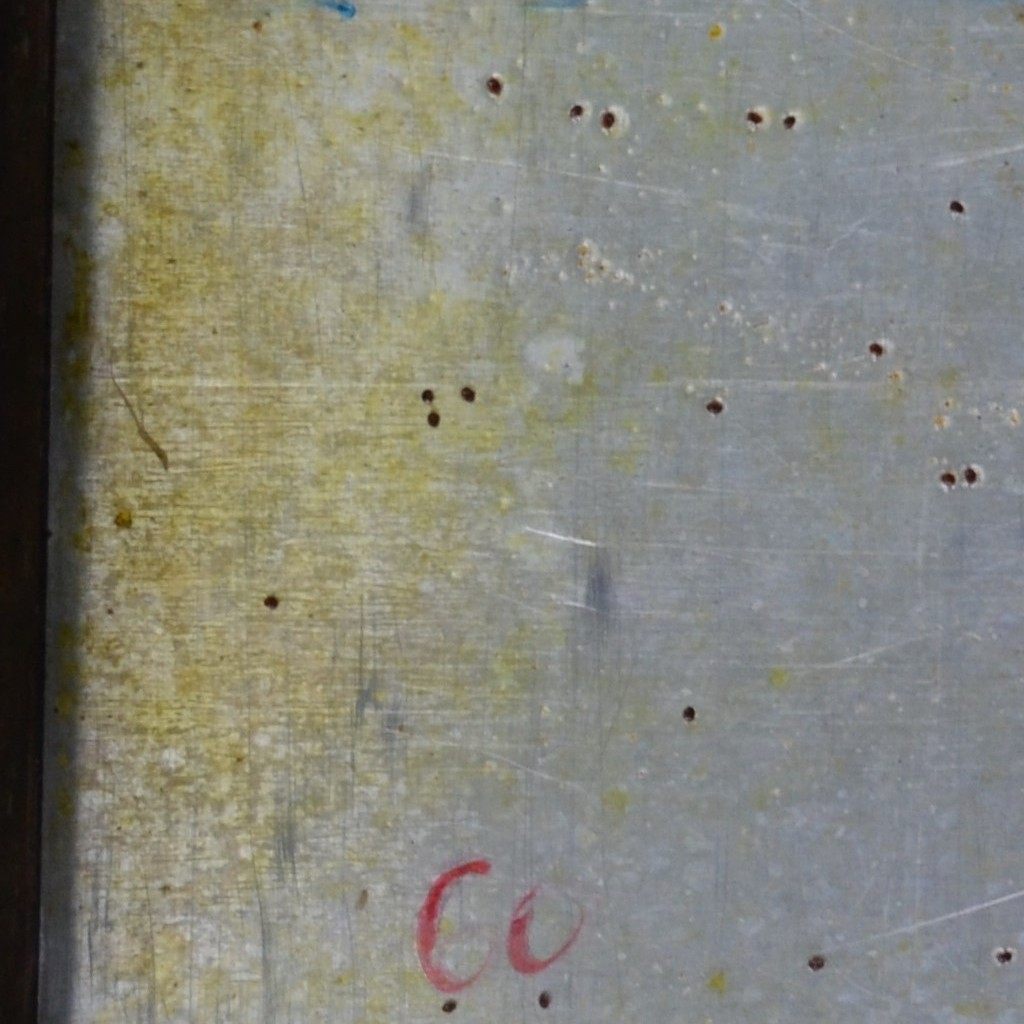varroa: (260, 588, 283, 617), (803, 953, 828, 977), (994, 944, 1016, 969), (458, 381, 479, 406), (481, 75, 506, 94), (703, 396, 726, 416), (599, 107, 616, 132), (866, 337, 886, 357), (937, 469, 959, 487), (436, 999, 459, 1016), (537, 987, 552, 1012), (681, 703, 698, 724), (963, 464, 978, 487), (946, 198, 967, 214), (425, 409, 442, 428), (781, 114, 797, 134), (746, 108, 764, 125), (568, 101, 585, 119), (420, 386, 436, 404)
